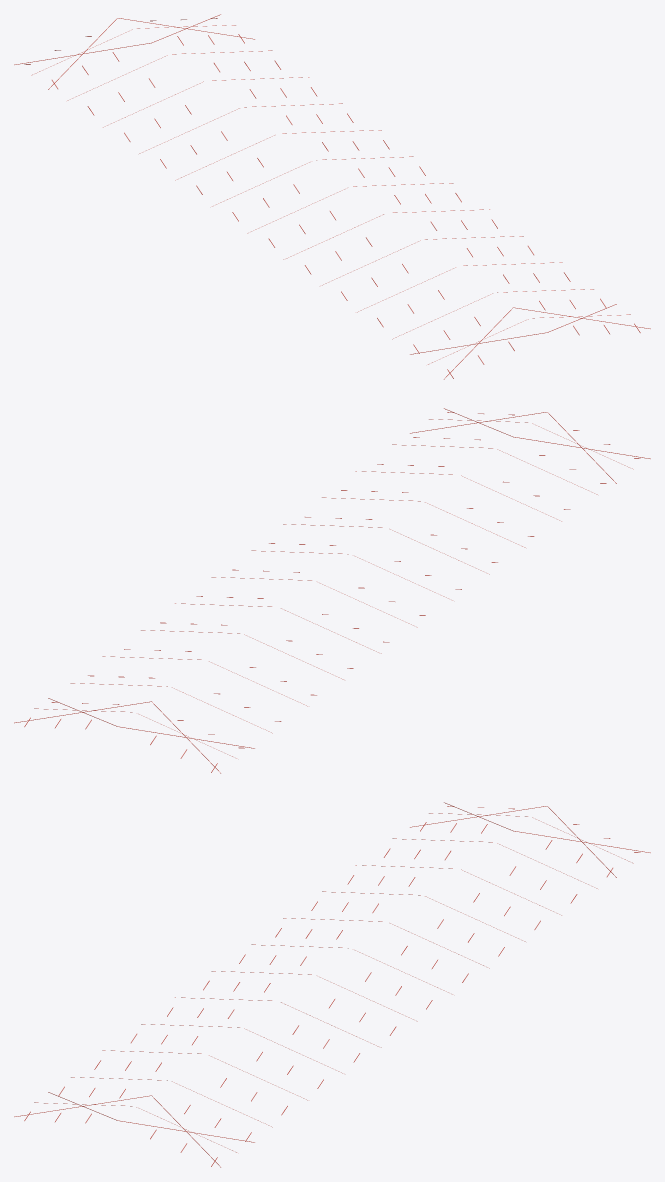
File: ikatan.glb
The picture shows the model from 3 angles, top to bottom: view 1: azimuth 30°, elevation 25°; view 2: azimuth 150°, elevation 25°; view 3: azimuth 330°, elevation 25°; orthographic projection.
Visible parts, largest first — view 1: ikatan; view 2: ikatan; view 3: ikatan.
Boxes of the visible parts, bbox=[...] form: ikatan: bbox=[14, 14, 650, 379]; ikatan: bbox=[14, 408, 650, 773]; ikatan: bbox=[14, 802, 650, 1167].
Size of the model in its own units: 16.55 by 1.93 by 59.45.
